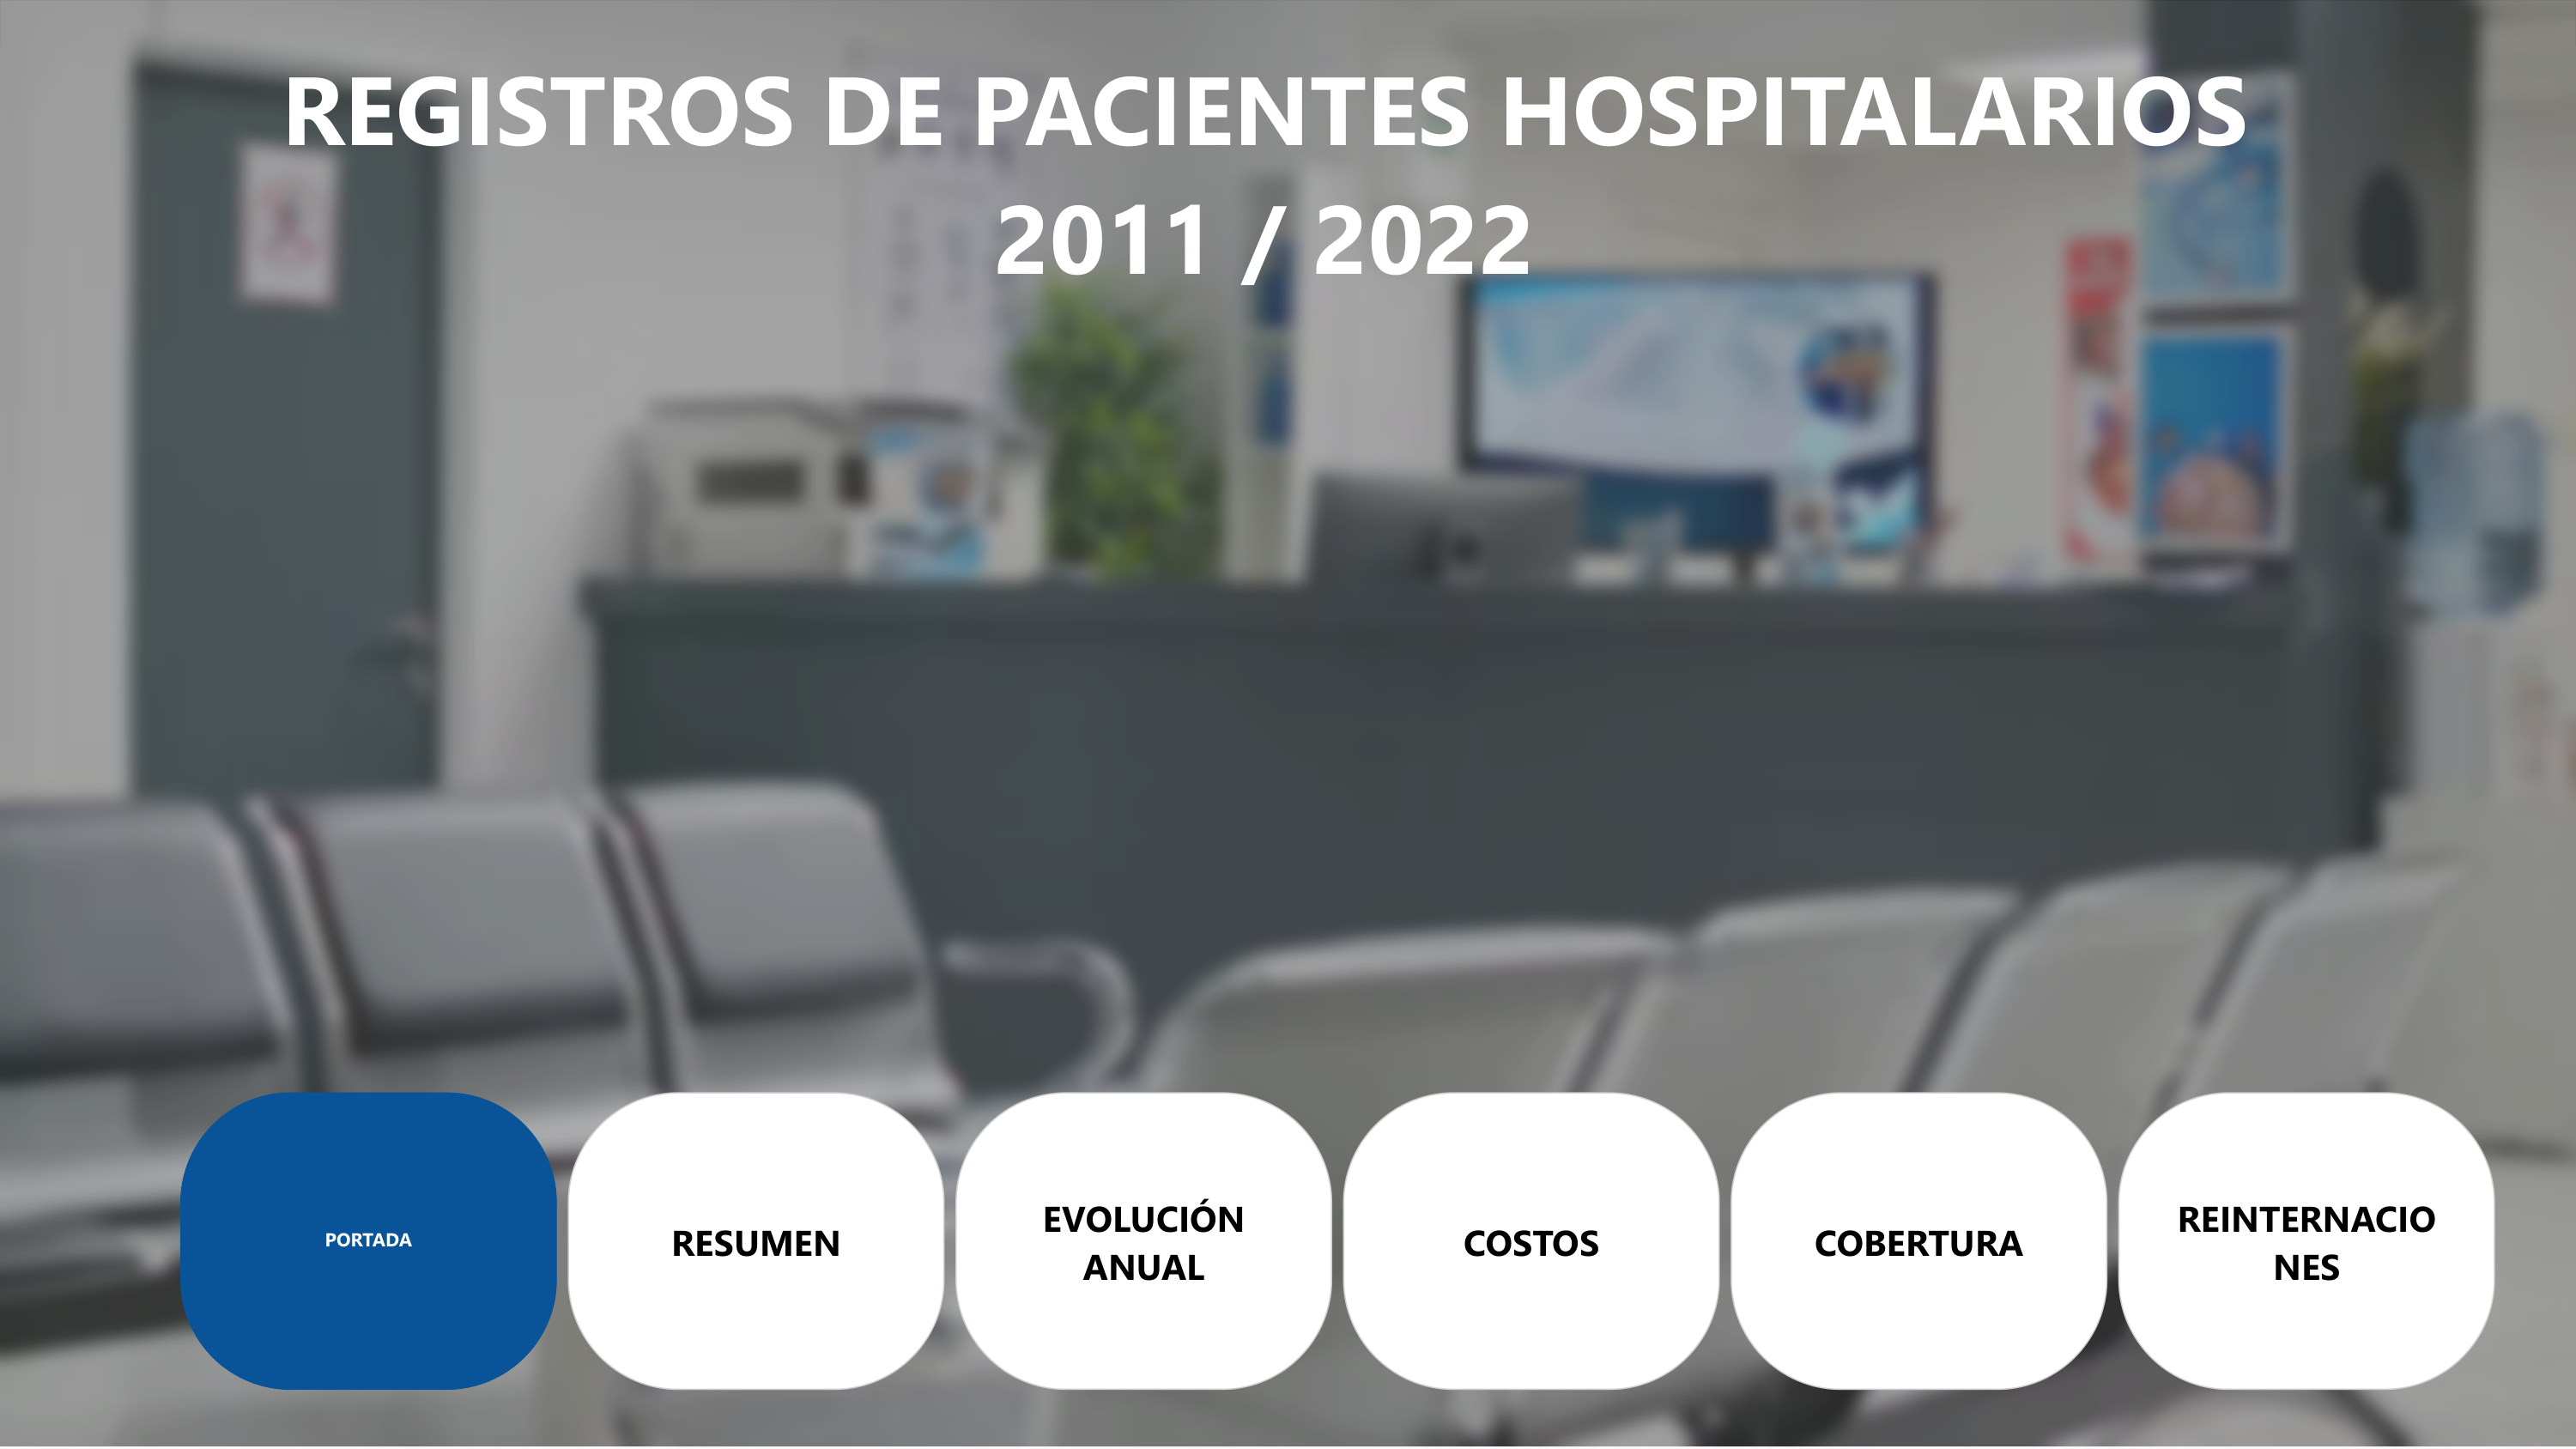

This screenshot's page, from the dashboard's own definition file:
{"tool":"powerbi","page":{"name":"PORTADA","canvas":[1920,1080],"ordinal":0},"visuals":[{"type":"pageNavigator","box":[40,815,1855,242.5],"z":0},{"type":"textbox","box":[20.2,30.2,1844.4,246.9],"z":1000}]}

Visuals, with their boxes in screenshot pixels (x1, y1, x2, y2), scaled from the page's 1920x1080 canvas onto the 2576x1449 screenshot:
pageNavigator: select_region(54, 1094, 2543, 1419)
textbox: select_region(27, 40, 2501, 372)
